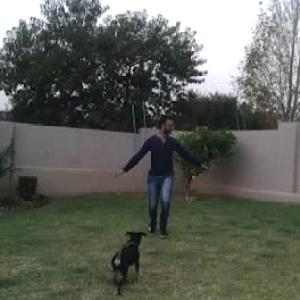land: (94, 110, 214, 242)
